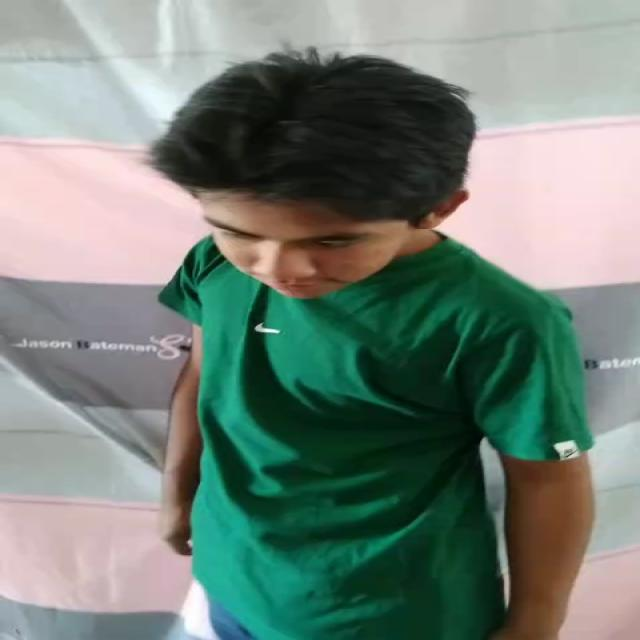9_cabeza_baja: (145, 48, 475, 298)
